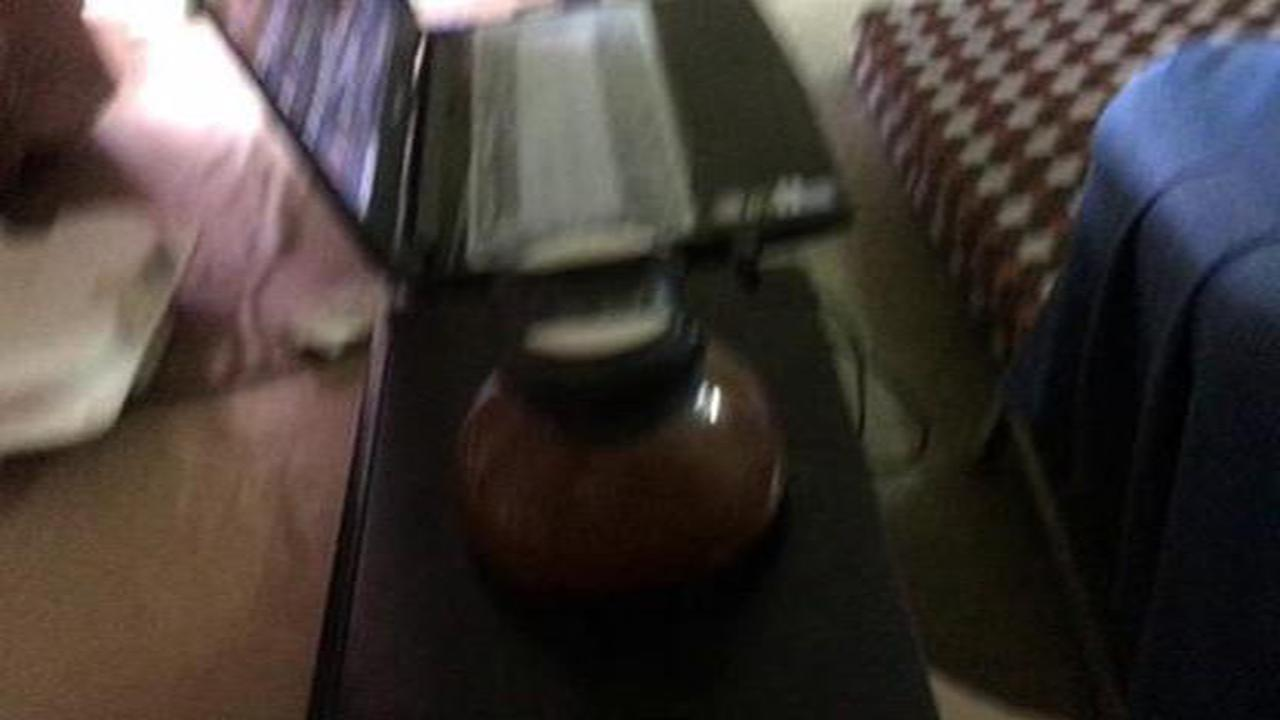insulator_pin: (431, 219, 816, 639)
